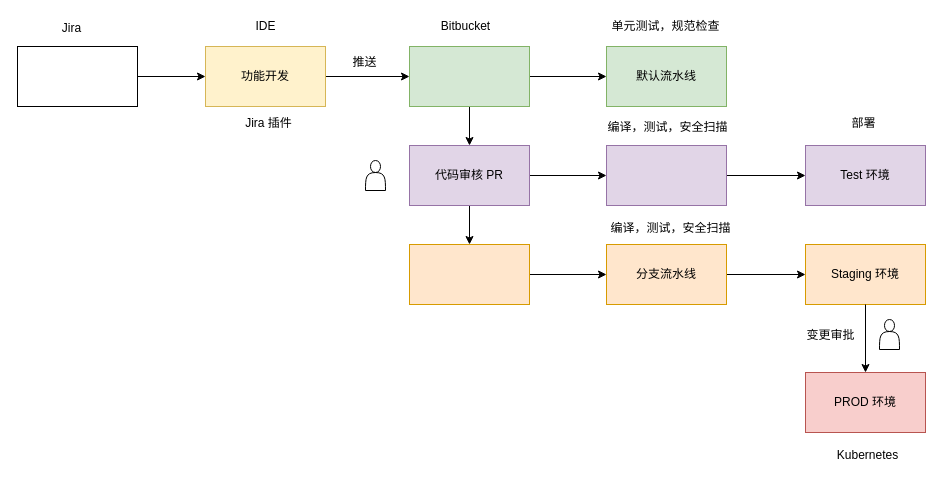
The diagram is 943 pixels wide and 481 high, and some of its shapes have lost their labels. Here are the shapes that lost their labels. From the top down, the box of each, then its label:
(16, 46, 138, 106): 用户需求
(408, 46, 530, 106): 功能分支
(606, 144, 726, 206): PR 流水线
(408, 244, 530, 304): Main 分支
